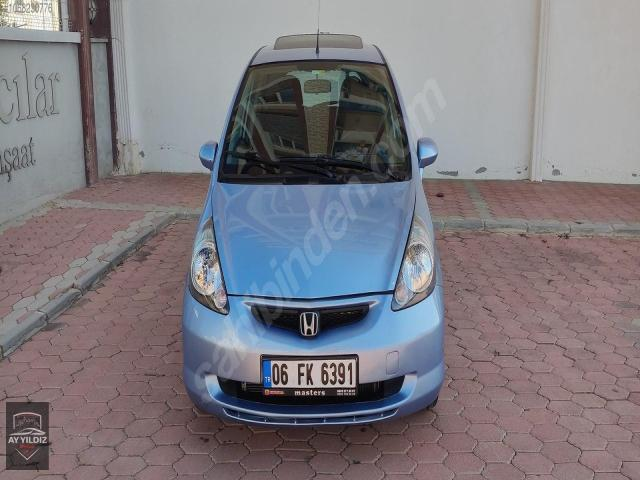plaka: (262, 356, 358, 395)
